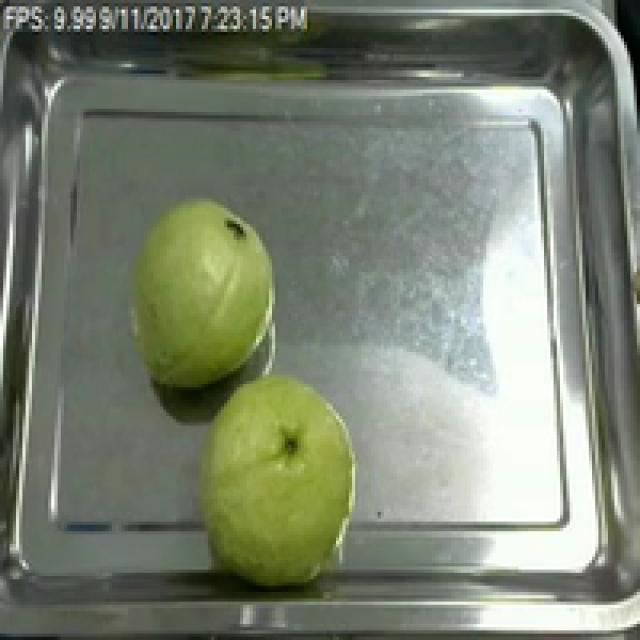Fruit: (179, 362, 371, 595), (118, 192, 288, 397)
